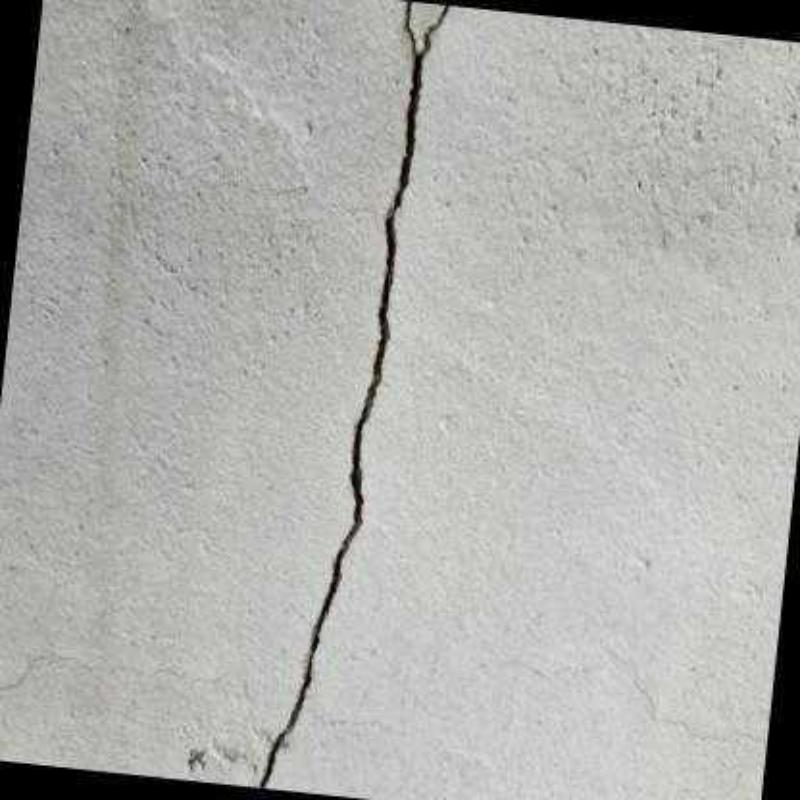pothole: (257, 1, 453, 789)
